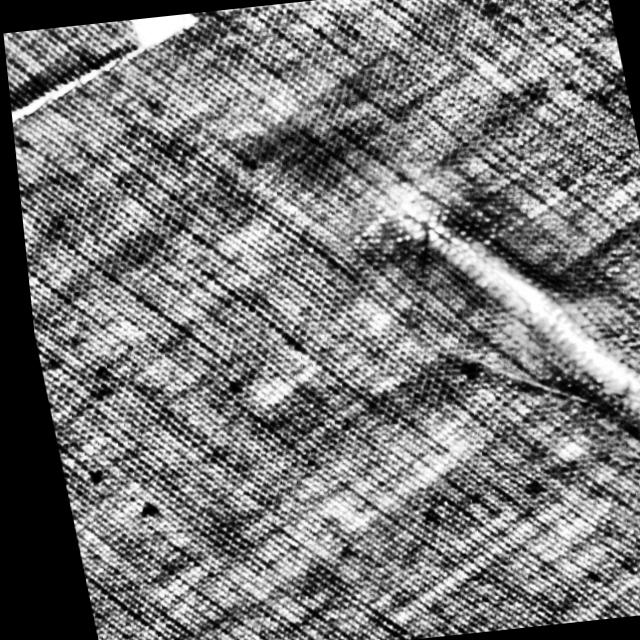Hole: (122, 11, 208, 48)
Stitch: (369, 170, 640, 477), (3, 39, 158, 130)
